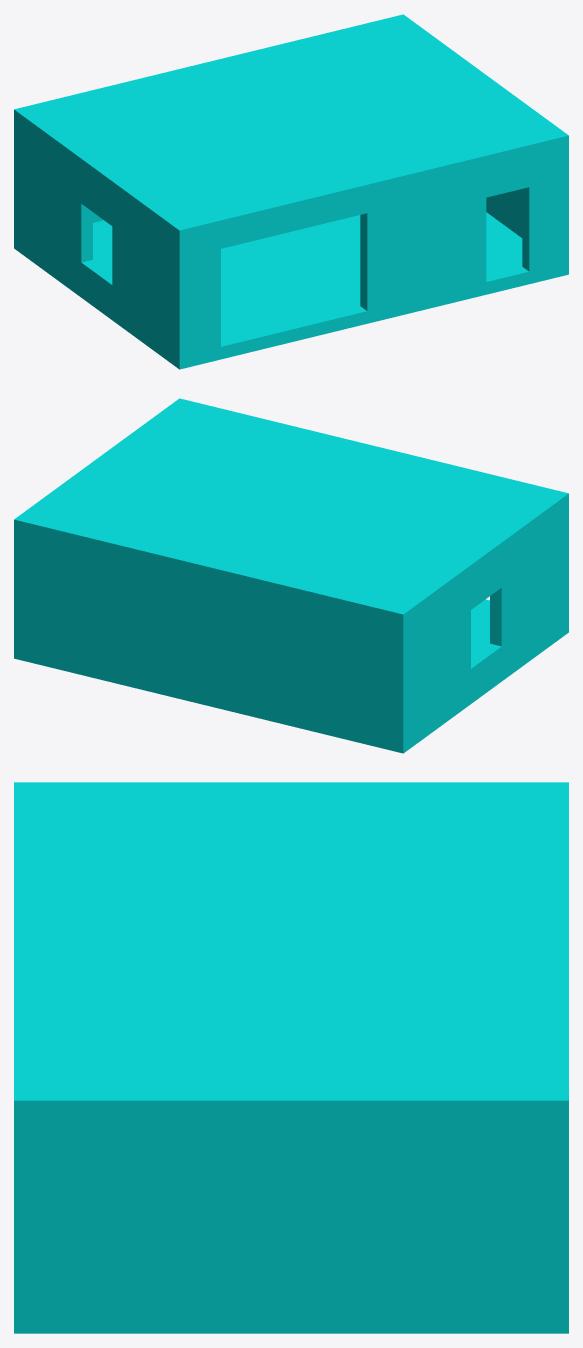
File: SM_Bld_Garage_02_Collision.fbx
3 renders of one model, top to bottom at view 1: azimuth 30°, elevation 25°; view 2: azimuth 150°, elevation 25°; view 3: azimuth 270°, elevation 25°, orthographic. The views are drawn at different scales.
Visible parts, largest first — view 1: SM_Bld_Garage_02_Collision; view 2: SM_Bld_Garage_02_Collision; view 3: SM_Bld_Garage_02_Collision.
Part boxes in pixels (x1,y1,x2,y2): SM_Bld_Garage_02_Collision: (14,14,568,369); SM_Bld_Garage_02_Collision: (14,398,568,753); SM_Bld_Garage_02_Collision: (14,782,568,1333).
Size of the model in its own units: 933 by 318 by 687.
